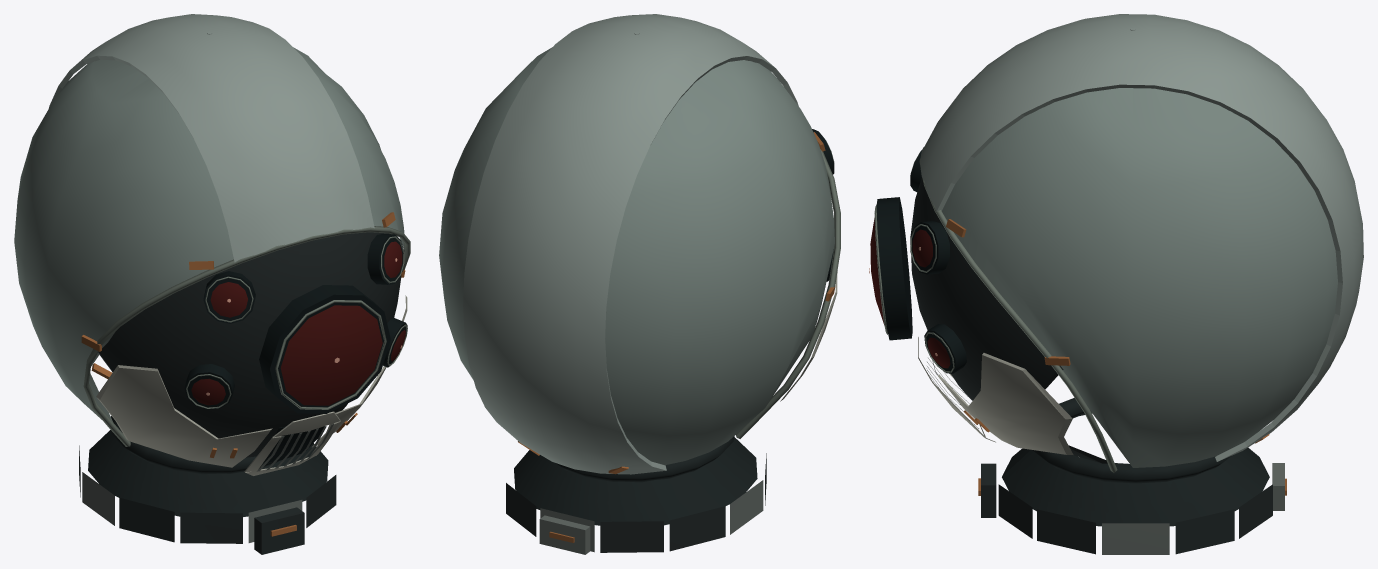
The picture shows the model from 3 angles, left to right: view 1: azimuth 30°, elevation 25°; view 2: azimuth 150°, elevation 25°; view 3: azimuth 270°, elevation 25°; orthographic projection. The views are drawn at different scales.
Parts seen in each view (by area): view 1: DISTANCE_SURFACE; view 2: DISTANCE_SURFACE; view 3: DISTANCE_SURFACE.
Part boxes in pixels (x1,y1,x2,y2): DISTANCE_SURFACE: (14, 14, 410, 554); DISTANCE_SURFACE: (439, 14, 840, 554); DISTANCE_SURFACE: (869, 14, 1363, 554).
Size of the model in its own units: 0.2786 by 0.379 by 0.3553.
